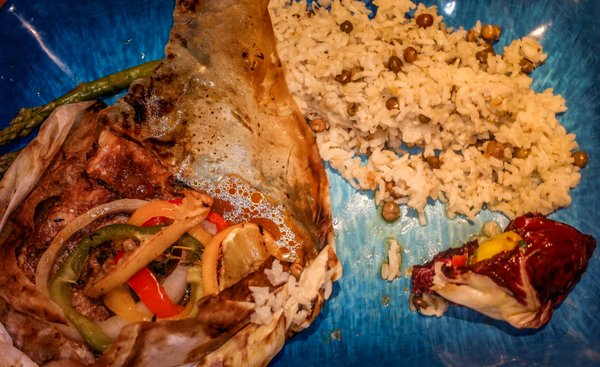pizza: (380, 237, 402, 281)
